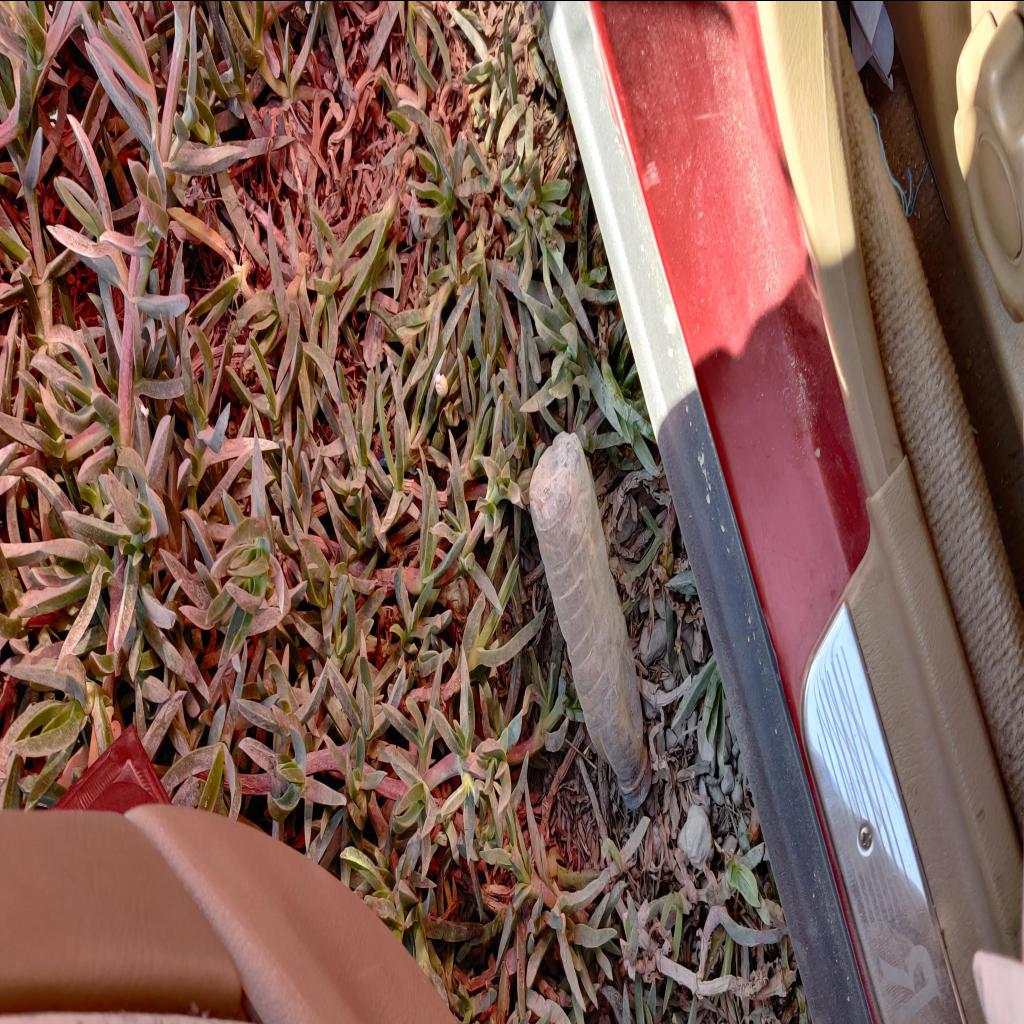Clear plastic bottle: (530, 428, 652, 810)
Normal paper: (850, 2, 894, 90)
Plastic bottle cap: (624, 759, 652, 812)
Rope - strings: (872, 105, 928, 219)
